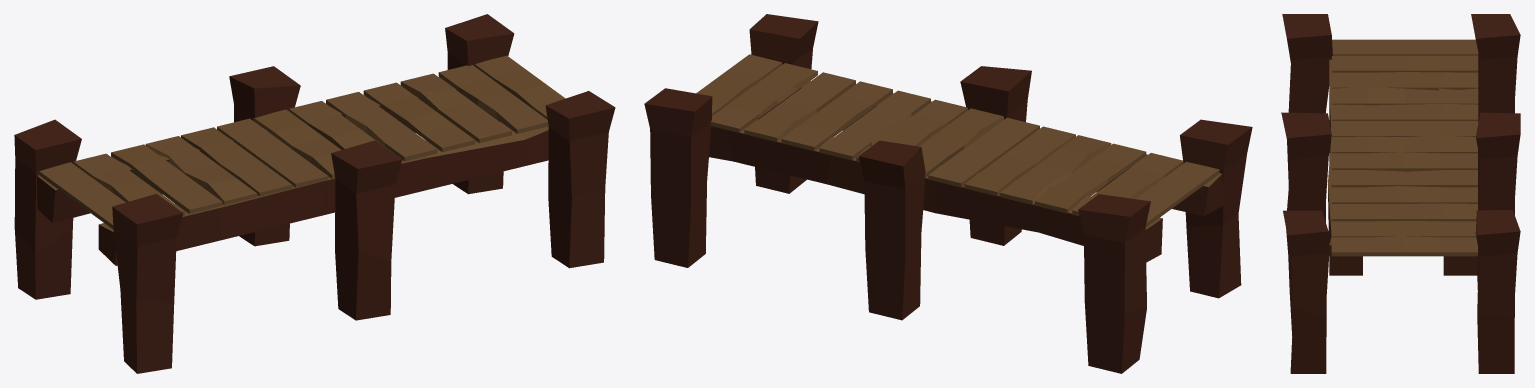
File: pier_01.fbx
The picture shows the model from 3 angles, left to right: view 1: azimuth 30°, elevation 25°; view 2: azimuth 150°, elevation 25°; view 3: azimuth 270°, elevation 25°; orthographic projection. The views are drawn at different scales.
Visible parts, largest first — view 1: Cube; view 2: Cube; view 3: Cube.
Boxes of the visible parts, bbox=[...] form: Cube: bbox=[14, 14, 615, 373]; Cube: bbox=[644, 14, 1252, 373]; Cube: bbox=[1281, 14, 1520, 373].
Bounding box in the file's own units: 1212 × 384 × 560.
